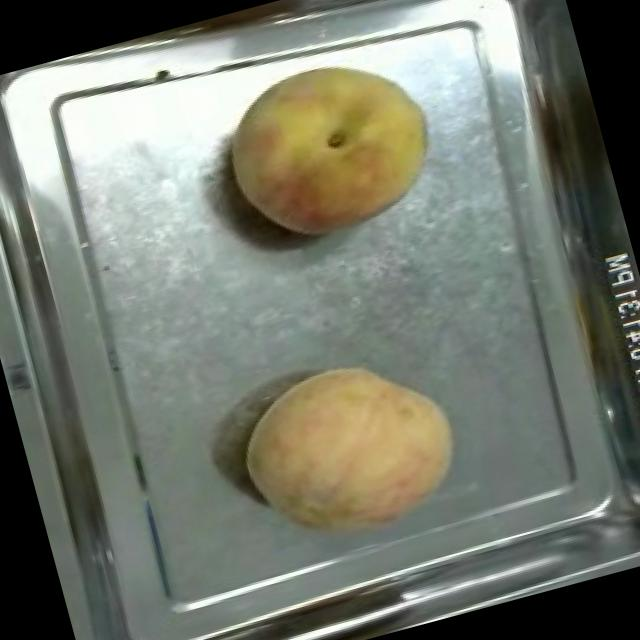Fruit: (218, 330, 486, 574), (200, 29, 457, 263)
